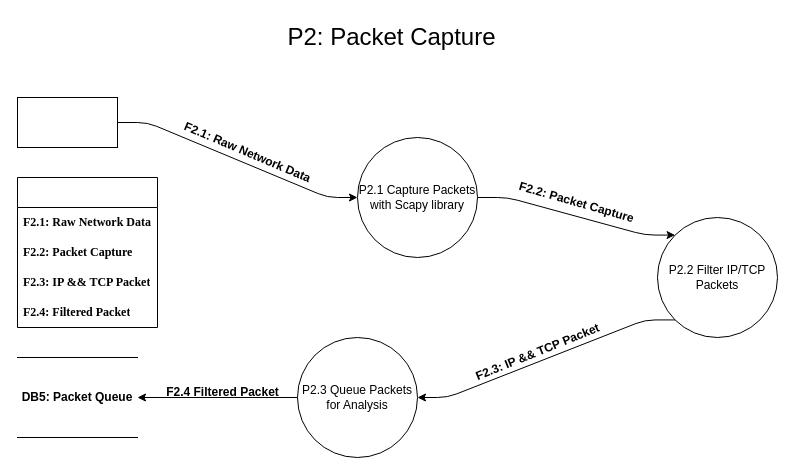
Image size: 795x475. Some labels were removed from this diagram. Each missing label, with the box of its shape:
Flow 2: Packet Capture: (16, 176, 158, 328)
Network Interface: (16, 96, 118, 148)
